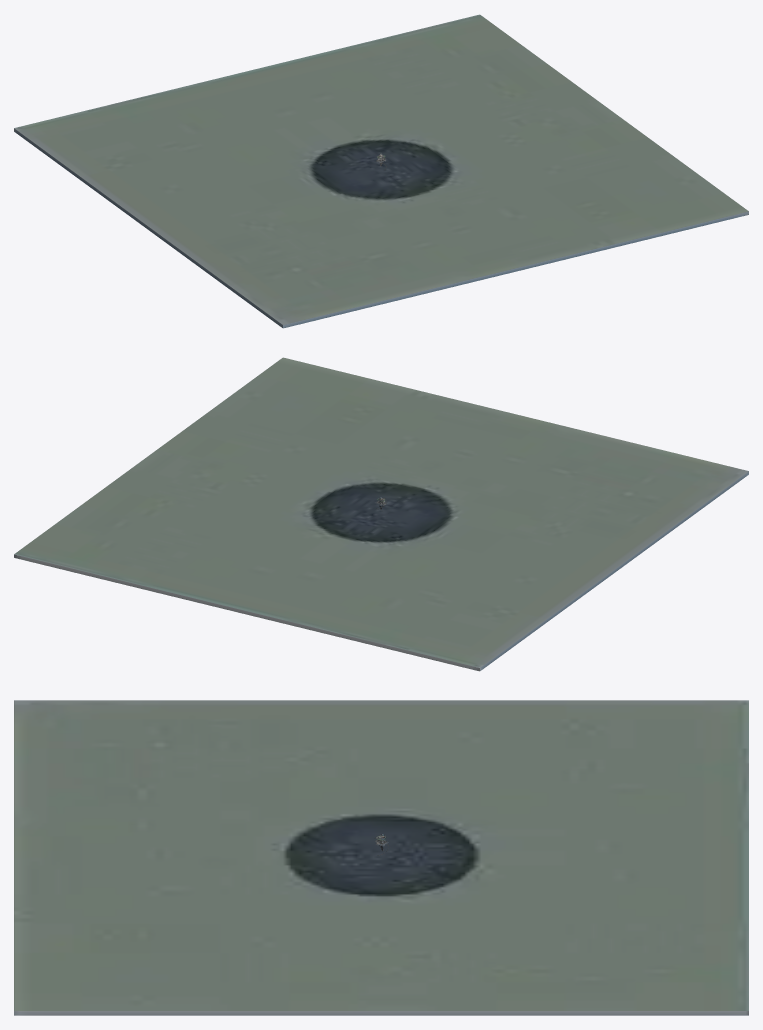
File: holy_mountain_low.glb
3 views of the same model, one above another, from view 1: azimuth 30°, elevation 25°; view 2: azimuth 150°, elevation 25°; view 3: azimuth 270°, elevation 25° (orthographic). The views are drawn at different scales.
Visible parts, largest first — view 1: mist_city; view 2: mist_city; view 3: mist_city.
Part boxes in pixels (<box>): mist_city: <box>14,14,748,328</box>; mist_city: <box>14,357,748,671</box>; mist_city: <box>14,700,748,1015</box>.
Bounding box in the file's own units: 26000 × 1046 × 26000.
Materials: 35 (35 with a texture image).
